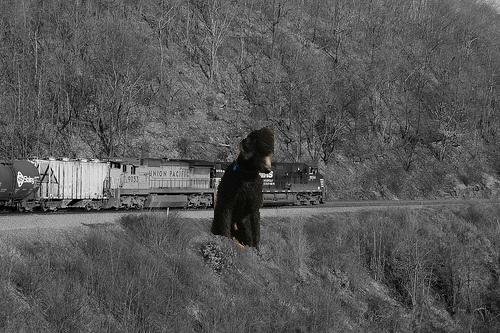tampered: (211, 127, 274, 248)
